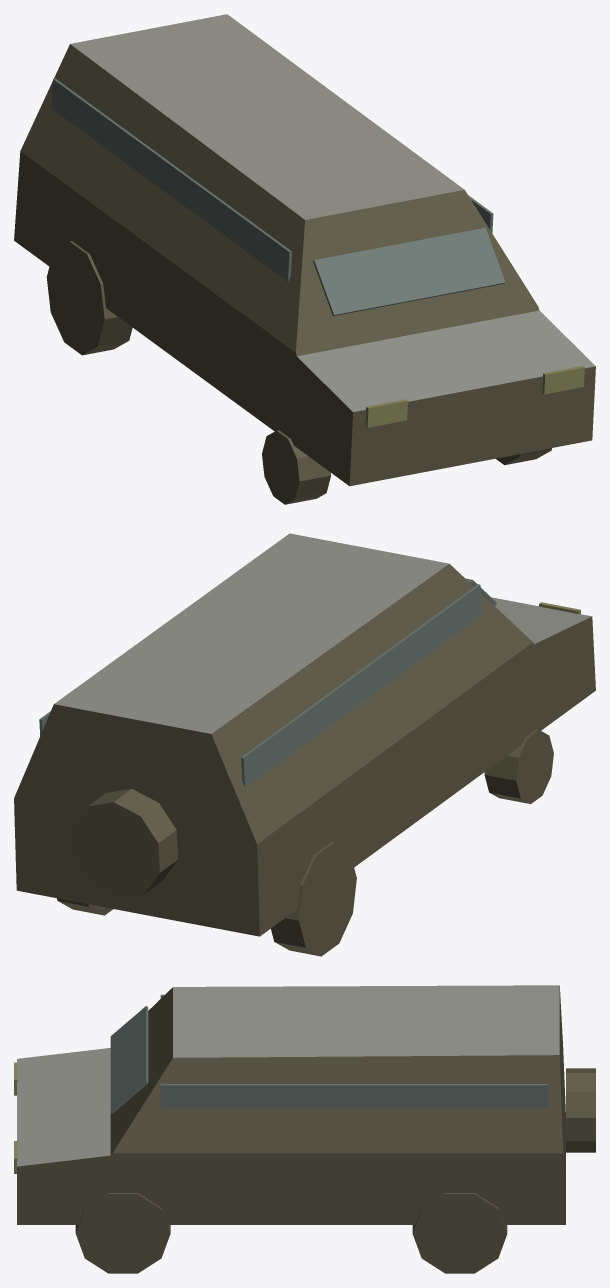
The model's file is SM_CocheCivil_Todoterreno_v2_LOD0.fbx.
3 renders of one model, top to bottom at view 1: azimuth 30°, elevation 25°; view 2: azimuth 150°, elevation 25°; view 3: azimuth 270°, elevation 25°, orthographic. The views are drawn at different scales.
Parts seen in each view (by area): view 1: SM_coche_civil_v17_LOD0; view 2: SM_coche_civil_v17_LOD0; view 3: SM_coche_civil_v17_LOD0.
Boxes of the visible parts, x1,y1,x2,y2 form: SM_coche_civil_v17_LOD0: (14,14,595,504); SM_coche_civil_v17_LOD0: (14,533,595,956); SM_coche_civil_v17_LOD0: (14,985,595,1273).
Bounding box in the file's own units: 1.92 × 1.88 × 4.66.
